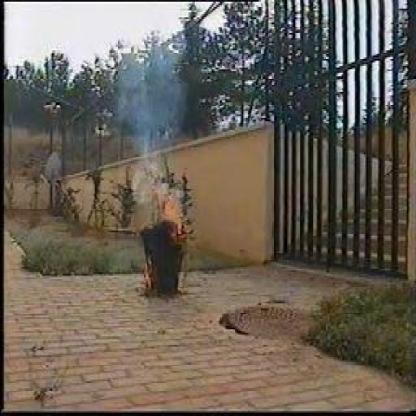-: (116, 53, 179, 141)
foggia-v2-map80-epoch100 - v1 4323: (164, 191, 194, 231)
